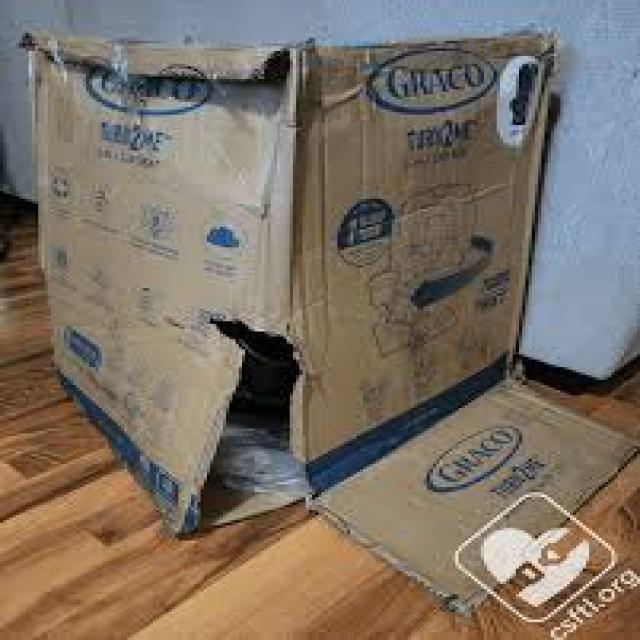box: (19, 23, 635, 612)
crushed: (170, 56, 298, 221), (304, 31, 381, 135)
opened: (154, 300, 308, 524)
